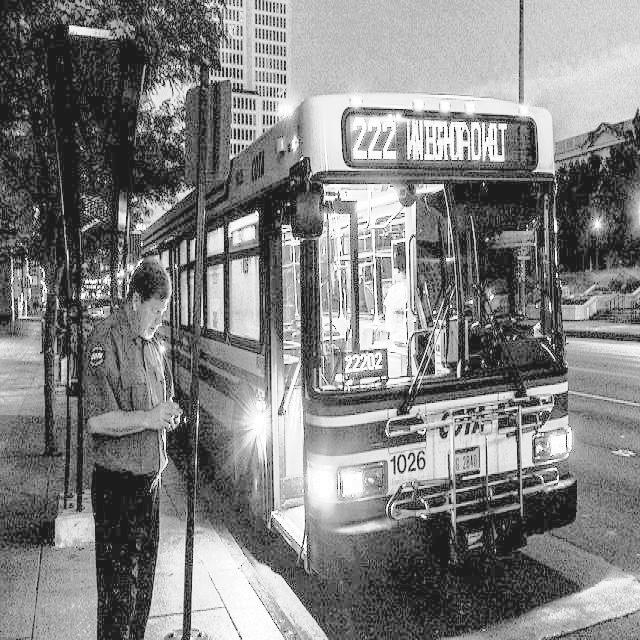Bus: (125, 125, 640, 560)
